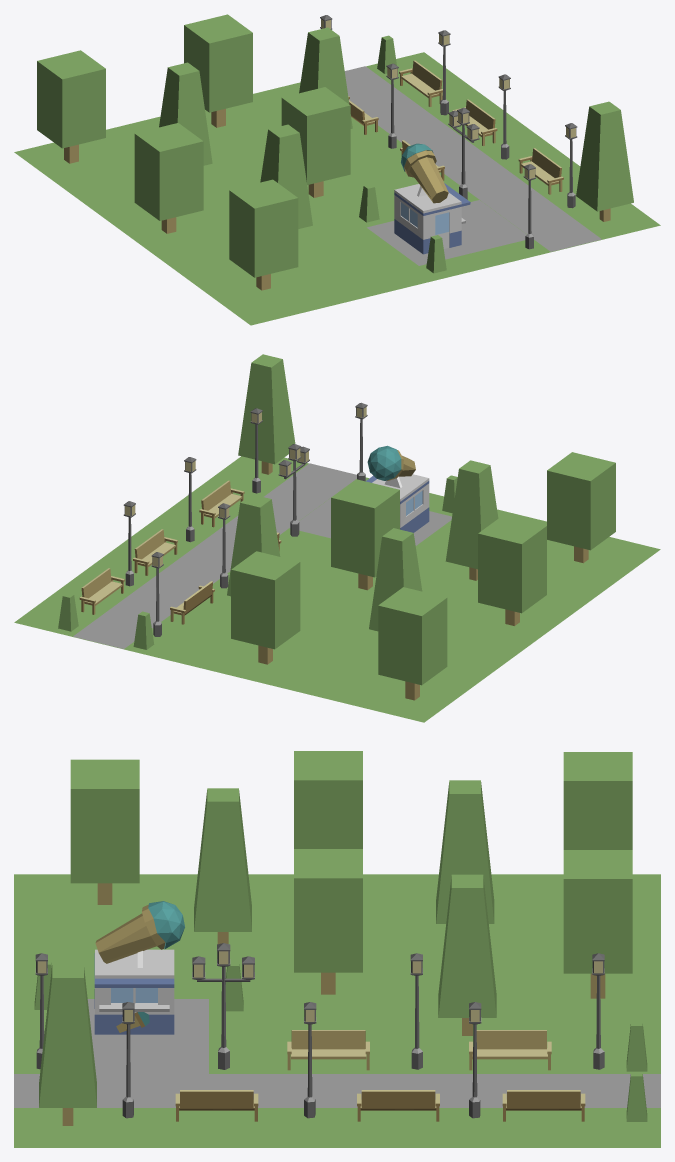
The model's file is park_006.fbx.
3 views of the same model, one above another, from view 1: azimuth 30°, elevation 25°; view 2: azimuth 150°, elevation 25°; view 3: azimuth 270°, elevation 25° (orthographic). The views are drawn at different scales.
Visible parts, largest first — view 1: park_006; view 2: park_006; view 3: park_006.
Boxes of the visible parts, x1,y1,x2,y2 form: park_006: [14, 14, 660, 325]; park_006: [14, 354, 660, 722]; park_006: [14, 751, 660, 1147].
Size of the model in its own units: 1600 by 424 by 1600.
